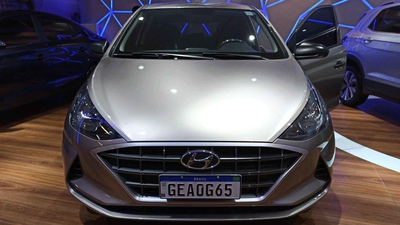Frontal Veiculo: (61, 4, 339, 225)
